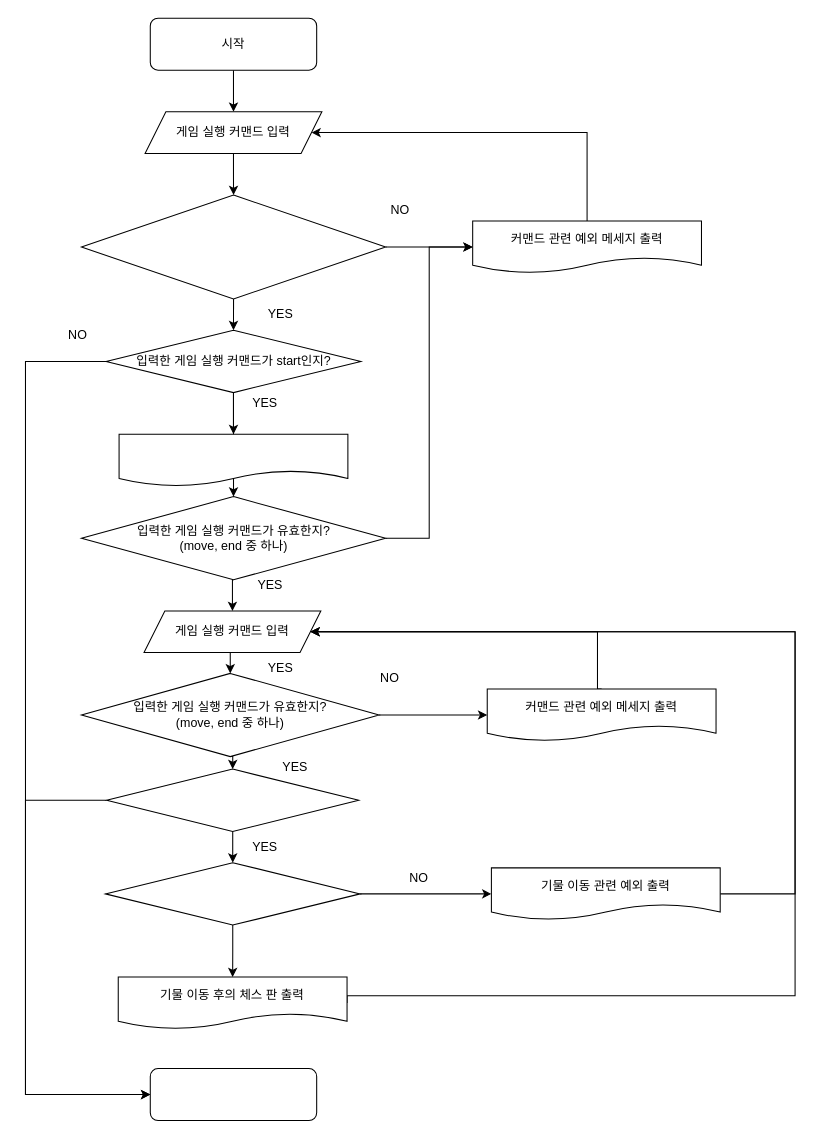
Some shapes in this 822 by 1139 pixel diagram are drawn without their labels. Here are the shapes that lost their labels. From the top down, the box of each, then its label:
(80, 194, 386, 299): 입력한 게임 실행 커맨드가 유효한지? (start, end 중 하나)
(118, 433, 348, 486): 체스 판 출력 (시작 기준)
(106, 768, 359, 831): 입력한 게임 실행 커맨드가 move인지?
(104, 862, 360, 925): 이동할 수 있는 기물인지?
(149, 1068, 317, 1121): 종료
